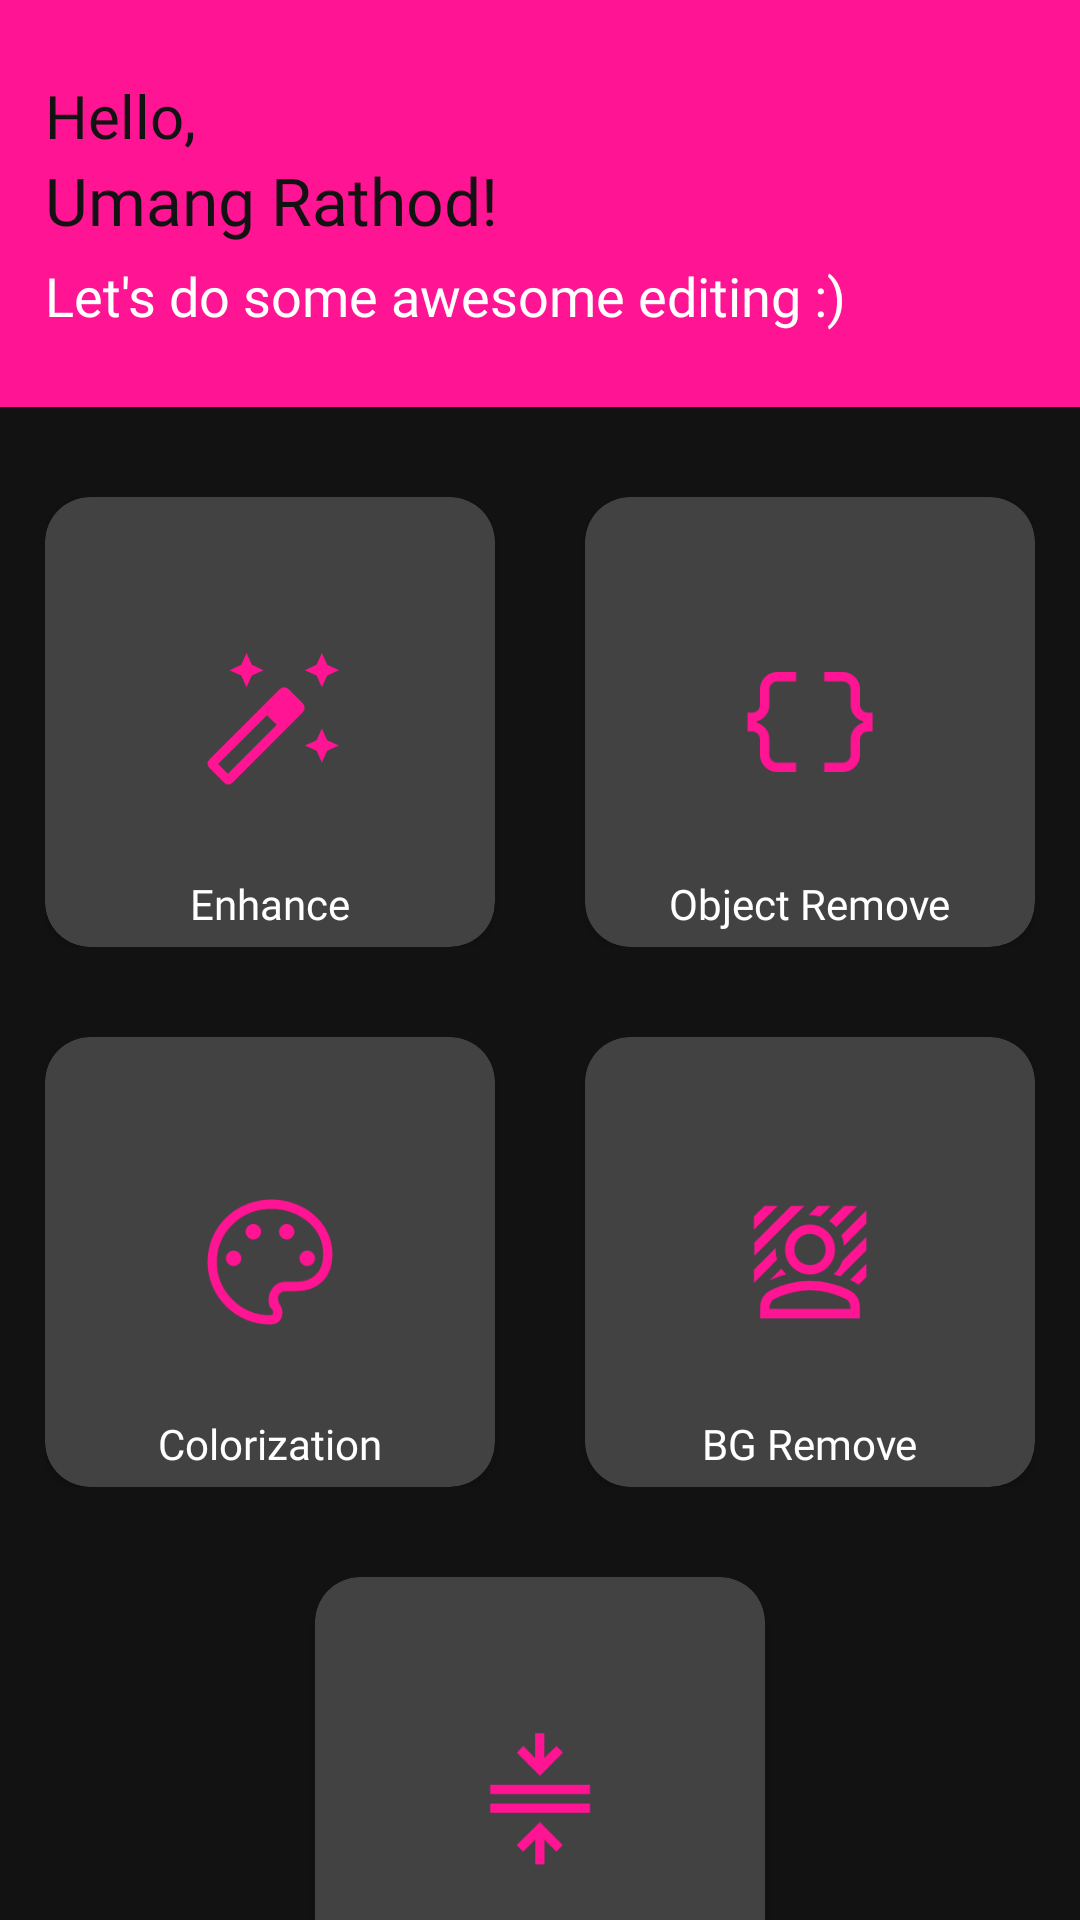

Point at icon controls on the screen. Image size 1080 x 1920, points as point (x, y).
compress: point (540, 1799)
